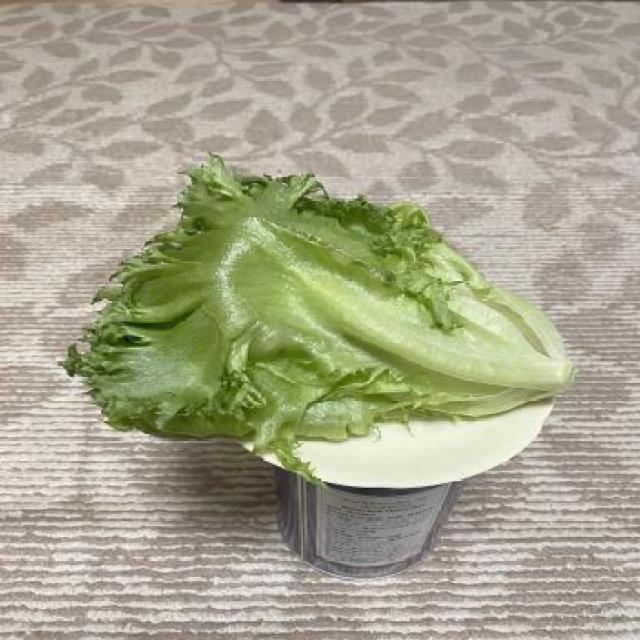Lettuce: (63, 154, 571, 455)
